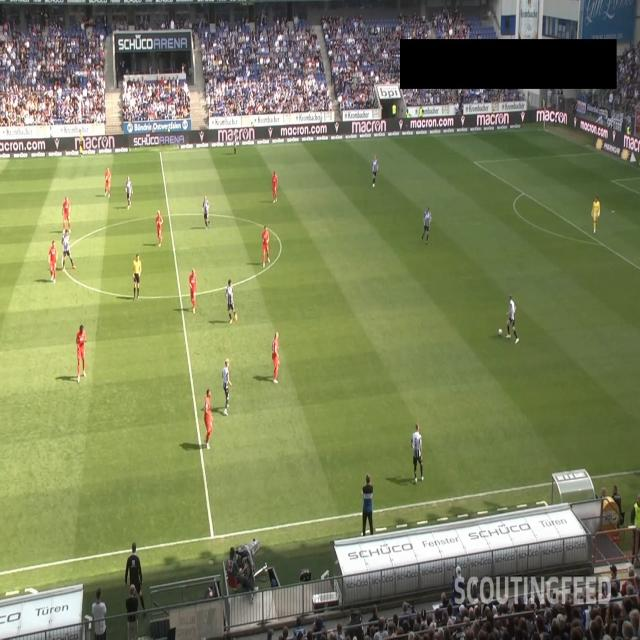ball: (498, 328, 503, 336)
